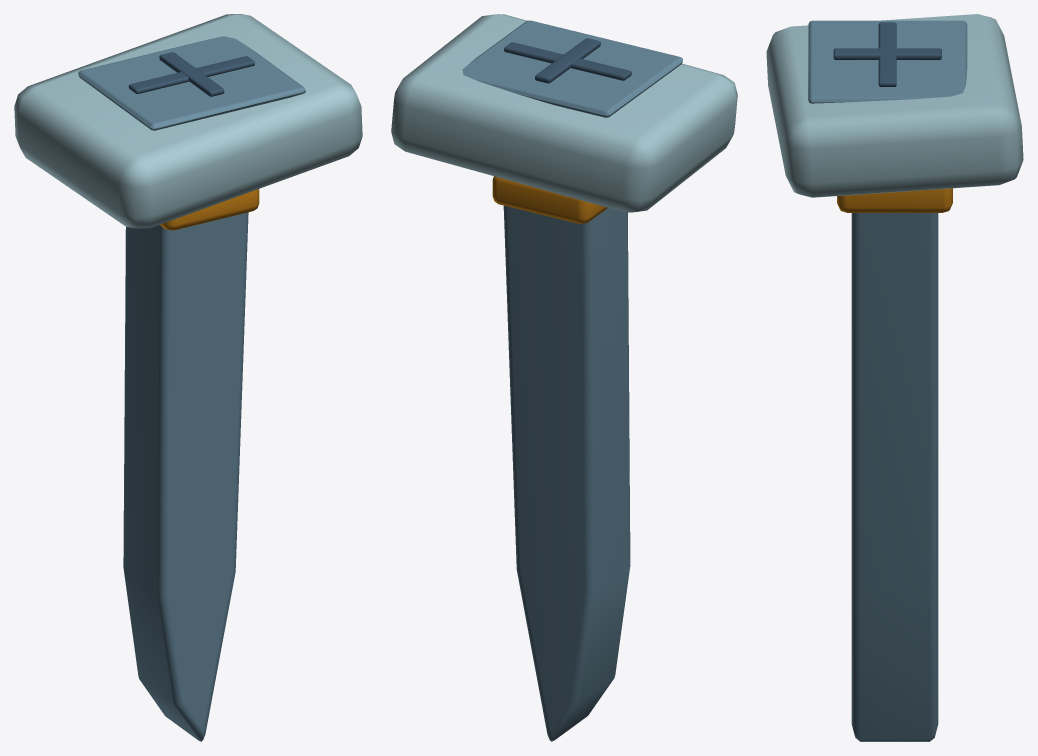
File: repair_nail.glb
3 renders of one model, left to right at view 1: azimuth 30°, elevation 25°; view 2: azimuth 150°, elevation 25°; view 3: azimuth 270°, elevation 25°, orthographic. The views are drawn at different scales.
Visible parts, largest first — view 1: repair_nail_runtime; view 2: repair_nail_runtime; view 3: repair_nail_runtime.
Boxes of the visible parts, bbox=[...] form: repair_nail_runtime: bbox=[14, 14, 362, 741]; repair_nail_runtime: bbox=[391, 14, 737, 741]; repair_nail_runtime: bbox=[766, 14, 1023, 741].
Size of the model in its own units: 0.5413 by 1.3 by 0.4372.
1 material, 1 textured.
